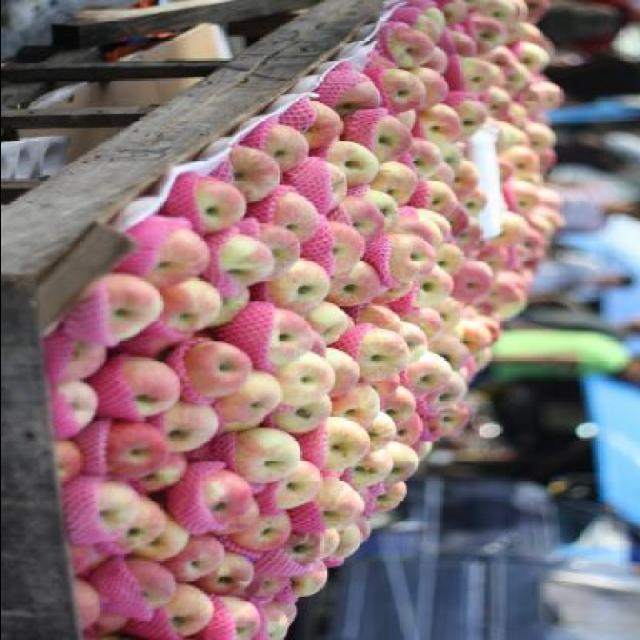Apple pie: (57, 0, 563, 638), (70, 276, 152, 342)
